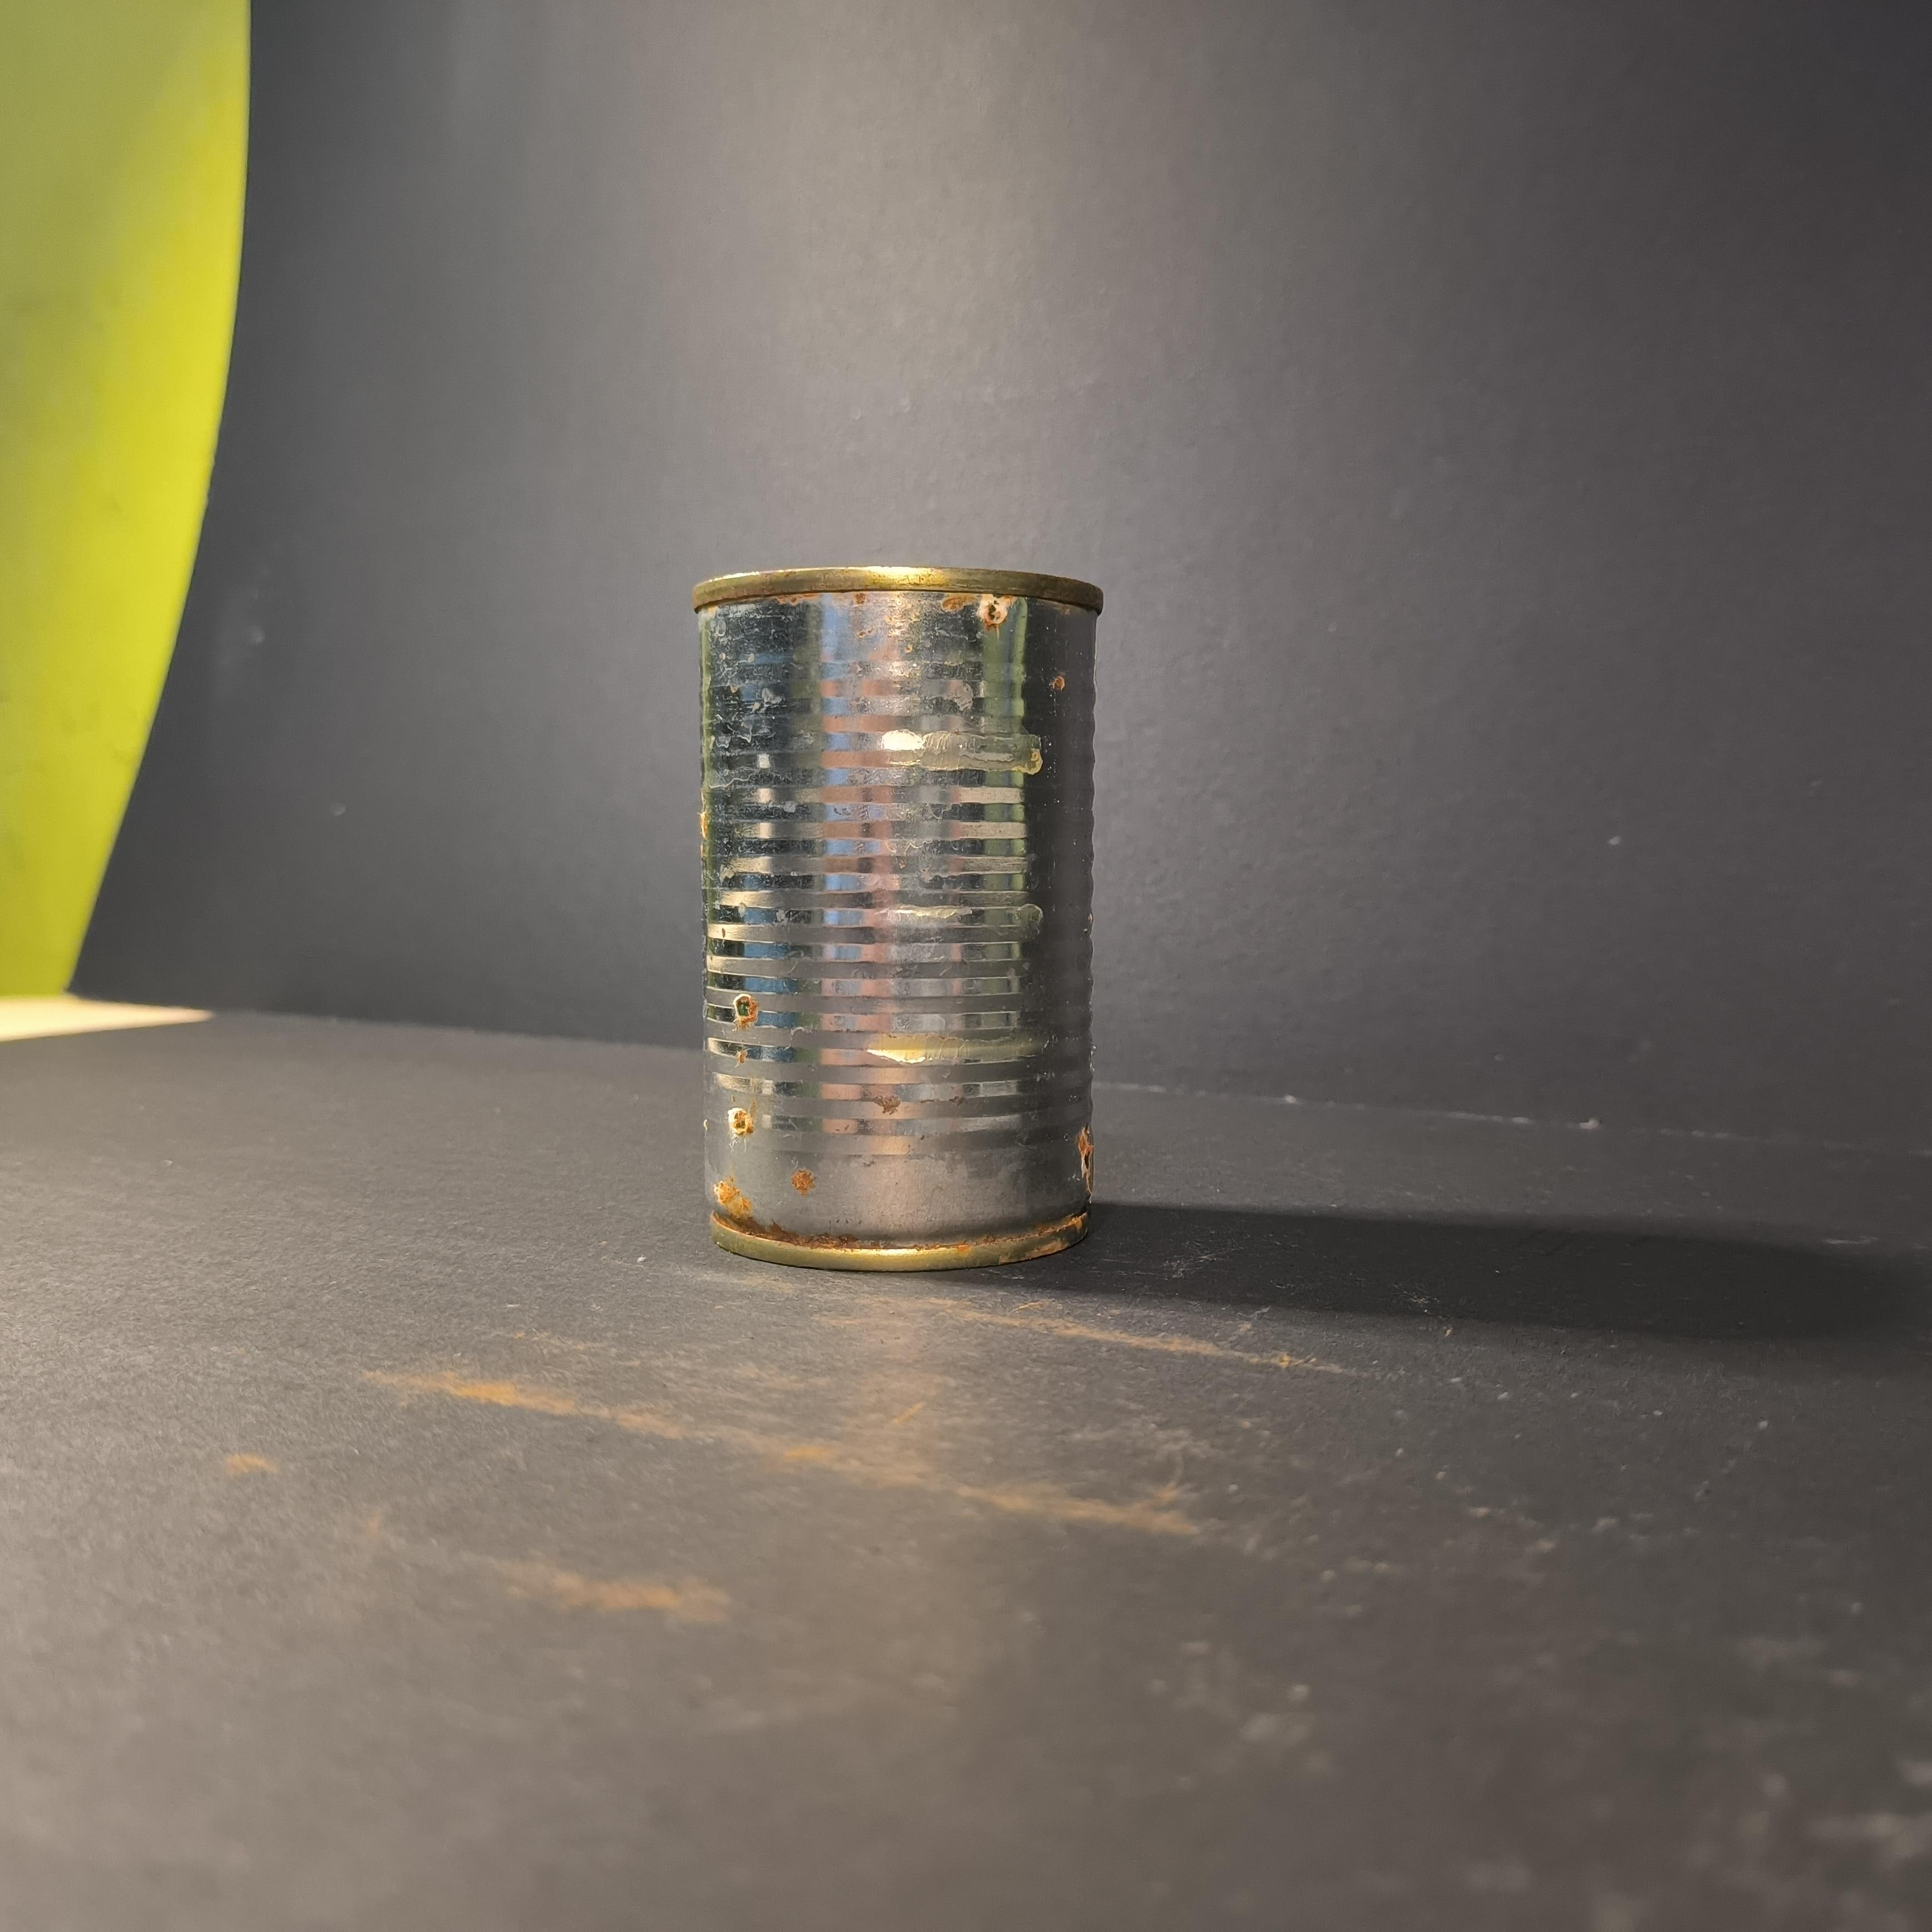Rusted: (667, 543, 1129, 1274)
